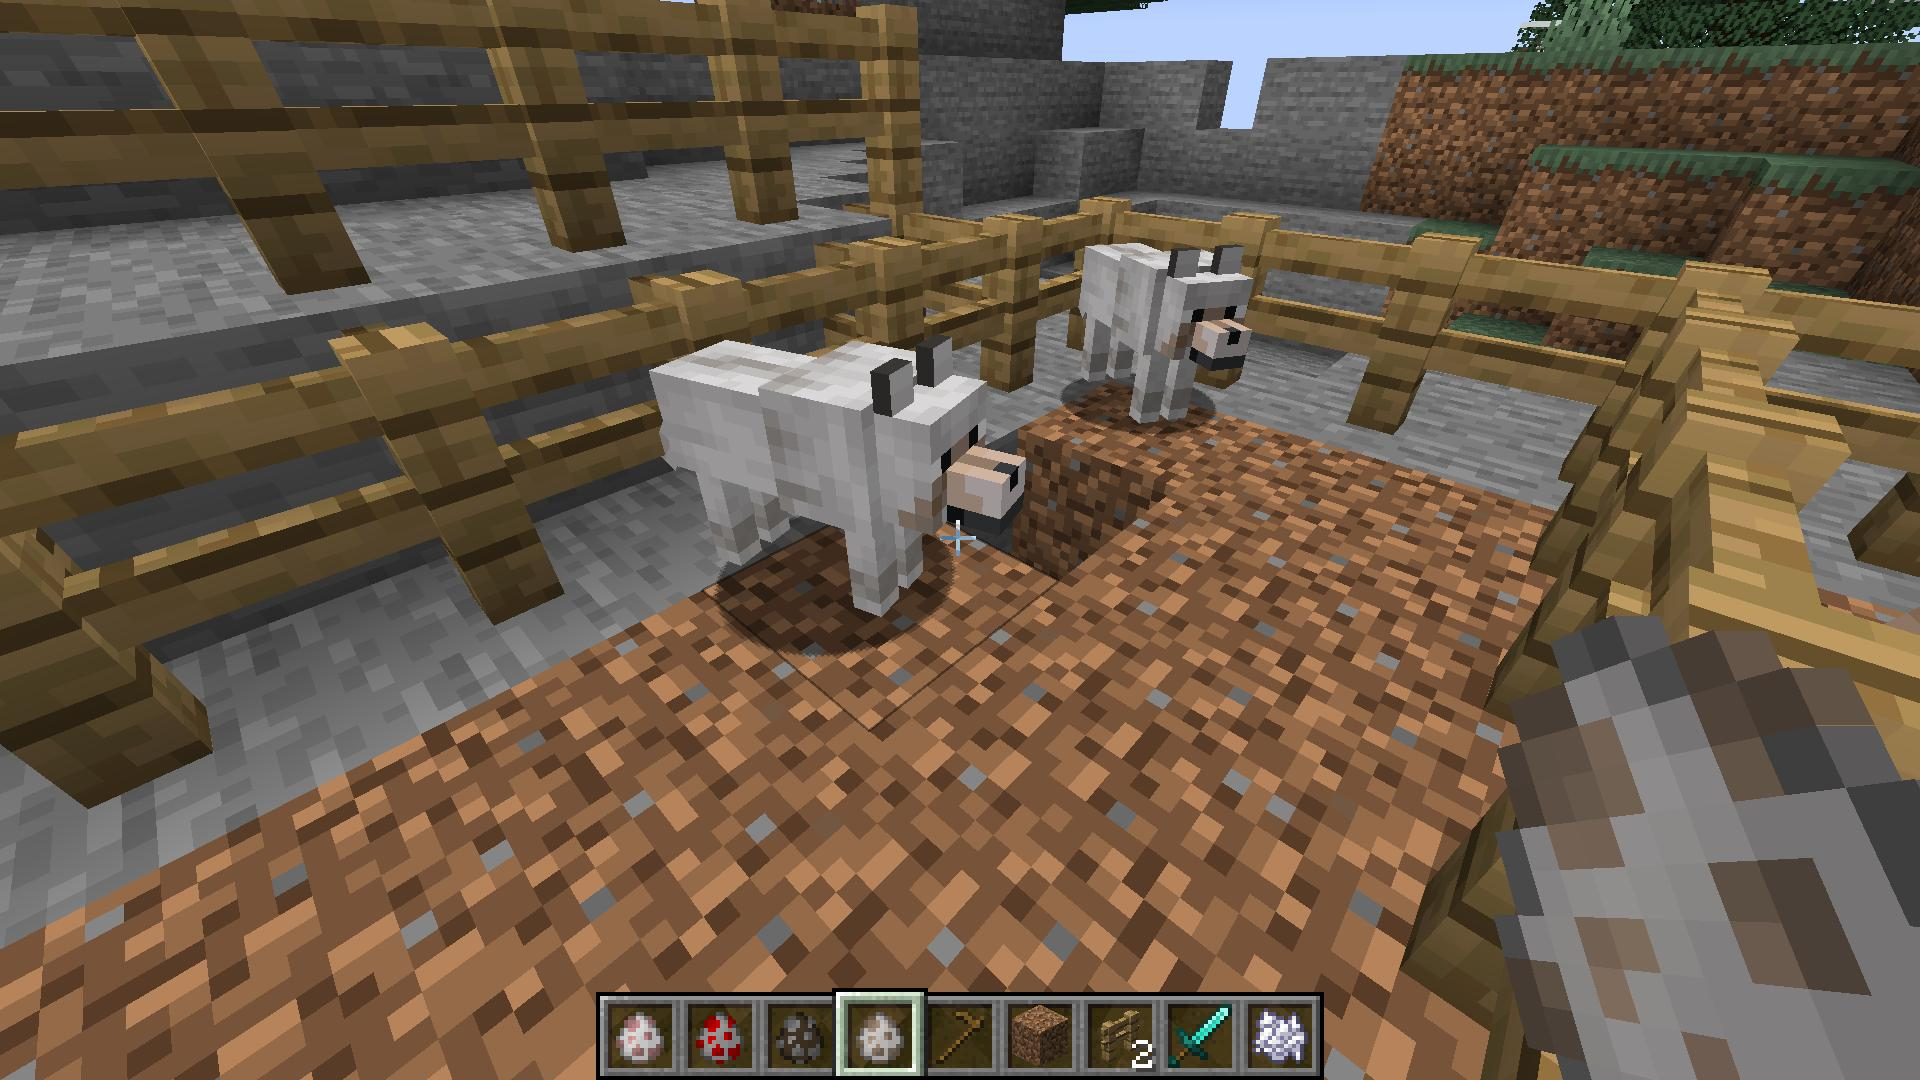wolf: (646, 326, 1035, 615)
